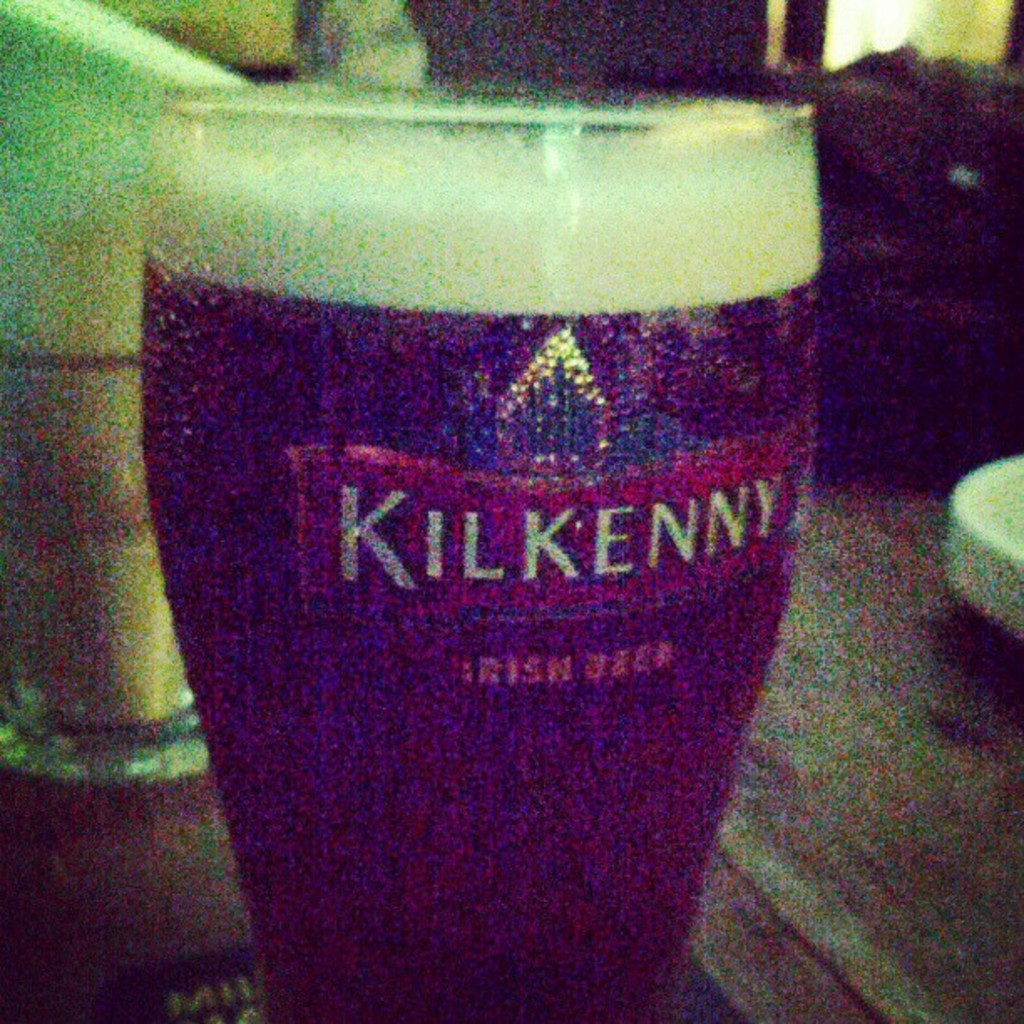Beer: (157, 143, 818, 1008)
